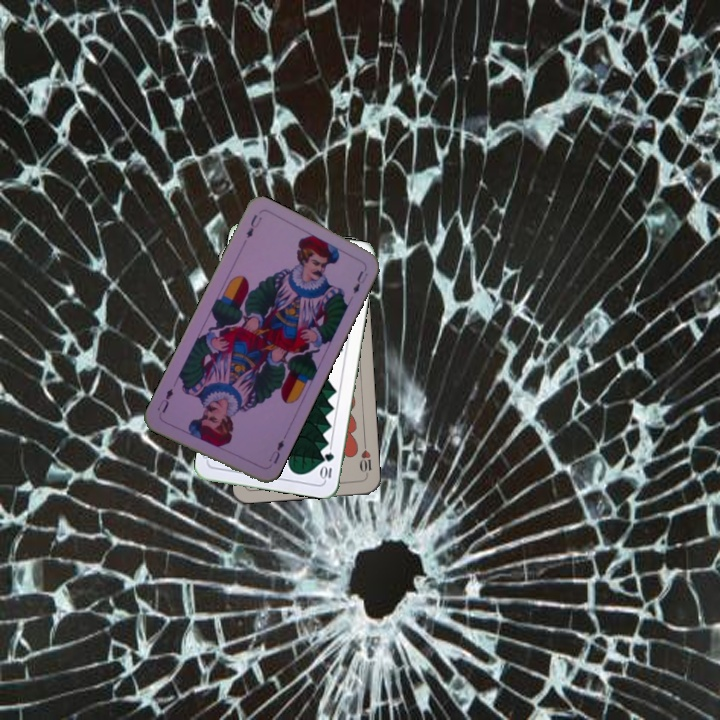EU: (242, 210, 264, 241), (265, 436, 287, 466)
G10: (318, 448, 336, 482)
H10: (355, 439, 374, 480)
